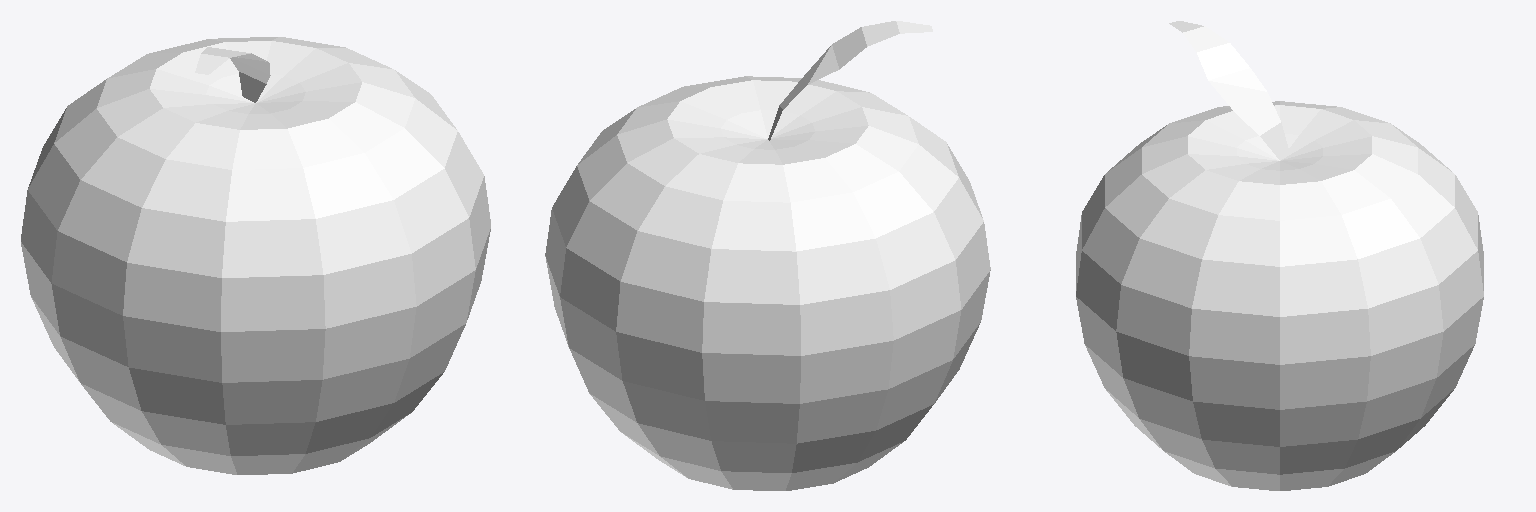
The robot description file, URDF, robot "apple":
<robot name="apple">
	<link name="_name">
		<visual>
			<origin rpy="0 0 0" xyz="0.0 0.0 -2.83264" />
			<geometry>
				<mesh filename="apple/118644ba80aa5048ac59fb466121cd17.obj" scale="1 1 1" />
			</geometry>
			<material name="texture">
				<color rgba="1.0 1.0 1.0 1.0" />
			</material>
		</visual>
		<collision>
			<geometry>
				<mesh filename="apple/118644ba80aa5048ac59fb466121cd17_vhacd.obj" scale="1 1 1" />
			</geometry>
		<origin rpy="0 0 0" xyz="0.0 0.0 -2.83264" /></collision>
		<inertial>
			<mass value="1.0" />
			<inertia ixx="1.0" ixy="0.0" ixz="0.0" iyy="1.0" iyz="0.0" izz="1.0" />
		</inertial>
	</link>
</robot>

--- What the picture shows (computed from the rendered views, not written in the file) ---
3 views of the same robot in one strip: view 1: azimuth 30°, elevation 25°; view 2: azimuth 150°, elevation 25°; view 3: azimuth 270°, elevation 25° (orthographic).
Model apple with 1 links and 0 joints (none), rooted at _name, posed every joint at zero.
Links seen in each view (by area): view 1: _name; view 2: _name; view 3: _name.
Link boxes in pixels (bbox=[...]): _name: bbox=[21, 37, 490, 474]; _name: bbox=[545, 21, 990, 490]; _name: bbox=[1076, 21, 1483, 490].
Bounding box of the posed robot: 2.79 × 2.72 × 2.83 m (x, y, z).
Meshes: 1 distinct files referenced, 1 mesh visuals loaded (1 OBJ).